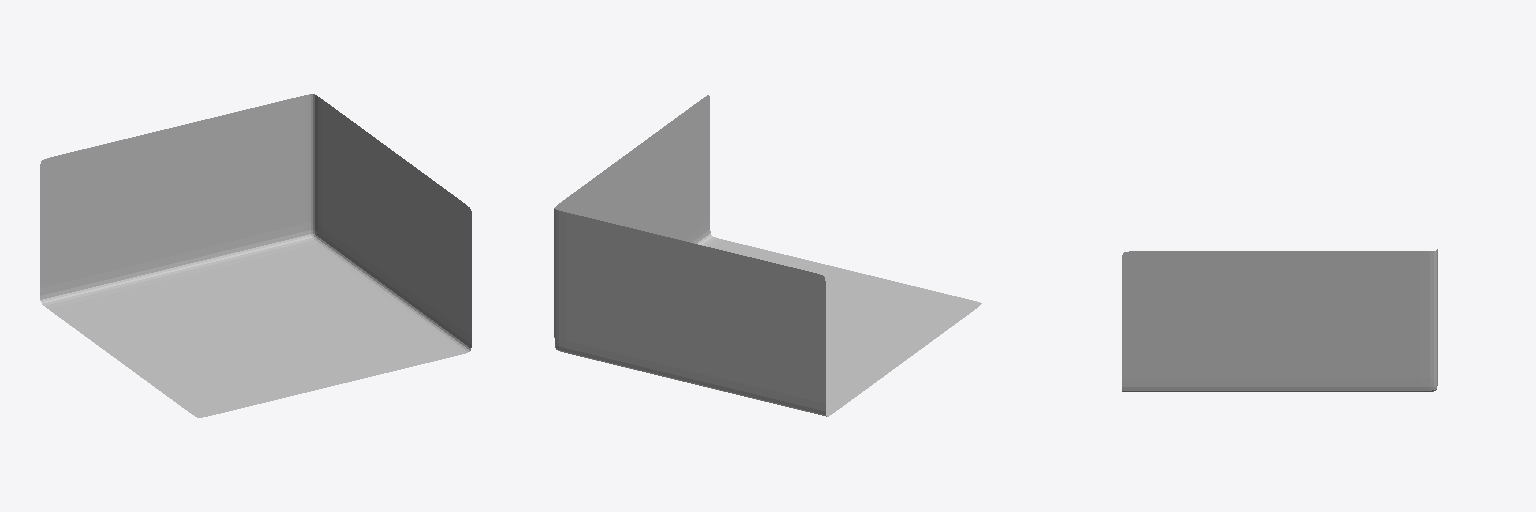
File: uploads_files_2136690_Studio+Corner.obj
3 renders of one model, left to right at view 1: azimuth 30°, elevation 25°; view 2: azimuth 150°, elevation 25°; view 3: azimuth 270°, elevation 25°, orthographic.
Visible parts, largest first — view 1: Mesh; view 2: Mesh; view 3: Mesh.
Part boxes in pixels (left/top/right/bottom): Mesh: left=40, top=94, right=471, bottom=417; Mesh: left=554, top=95, right=981, bottom=416; Mesh: left=1122, top=249, right=1437, bottom=391.
Bounding box in the file's own units: 6.35 × 3.18 × 6.35.